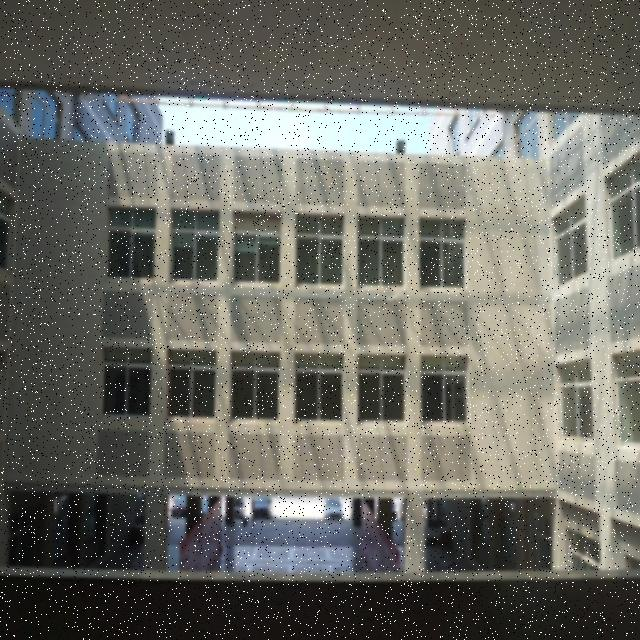UAV: (386, 292, 402, 307)
